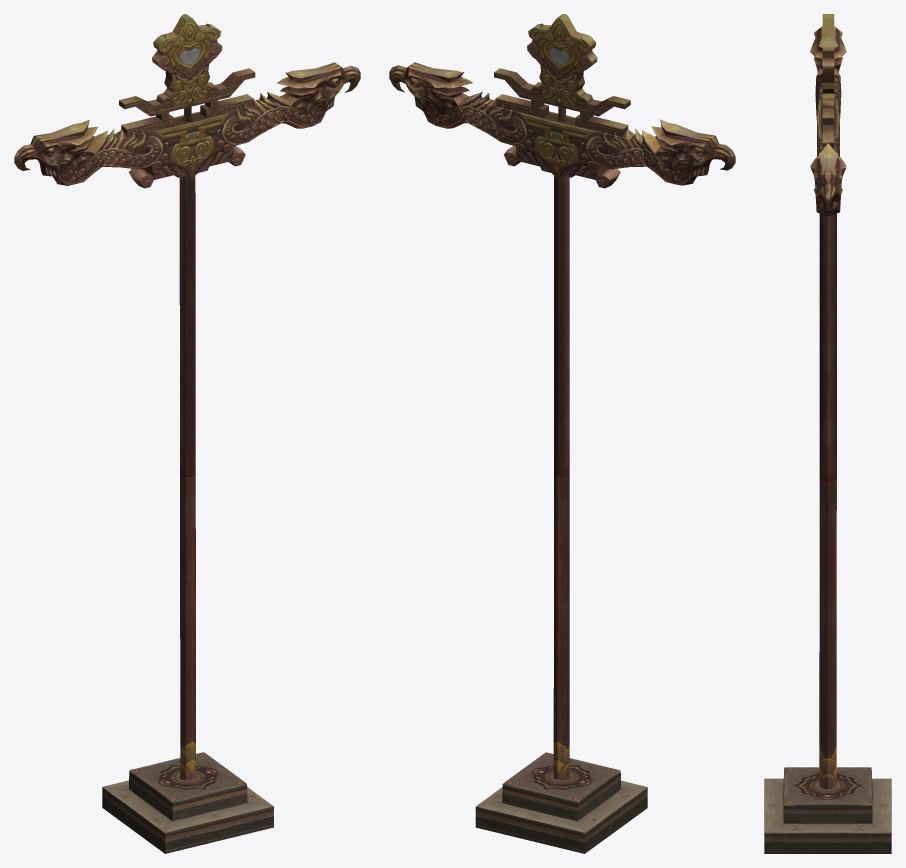
File: GZ_Xsc_qigan_01_D.FBX
3 views of the same model, side by side, from view 1: azimuth 30°, elevation 25°; view 2: azimuth 150°, elevation 25°; view 3: azimuth 270°, elevation 25° (orthographic).
Visible parts, largest first — view 1: GZ_Xsc_qigan_01_D; view 2: GZ_Xsc_qigan_01_D; view 3: GZ_Xsc_qigan_01_D.
Boxes of the visible parts, left/top/right/bottom form: GZ_Xsc_qigan_01_D: left=14, top=14, right=360, bottom=853; GZ_Xsc_qigan_01_D: left=389, top=14, right=735, bottom=853; GZ_Xsc_qigan_01_D: left=764, top=14, right=891, bottom=853.
Bounding box in the file's own units: 3.41 × 7.55 × 1.07.
